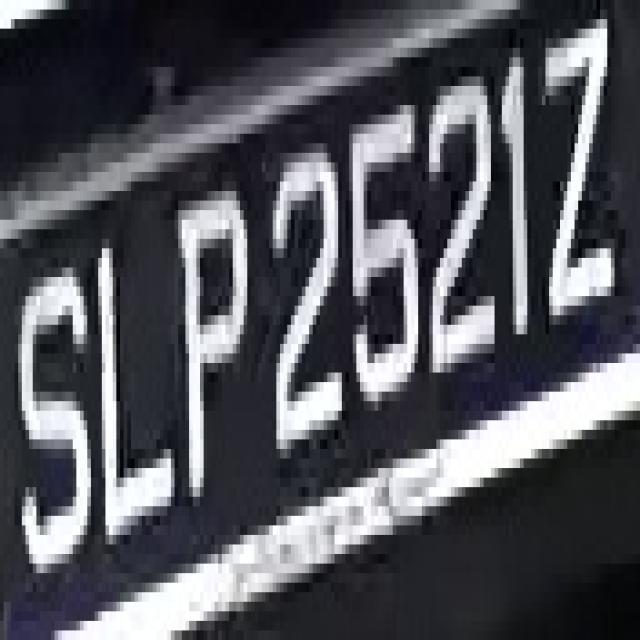1: (491, 38, 534, 392)
2: (255, 143, 352, 478), (415, 77, 498, 382)
5: (346, 67, 429, 449)
L: (91, 229, 178, 573)
P: (174, 162, 254, 544)
S: (11, 239, 94, 592)
Z: (534, 9, 622, 324)
